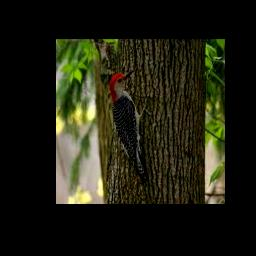Woodpecker: (110, 69, 151, 179)
